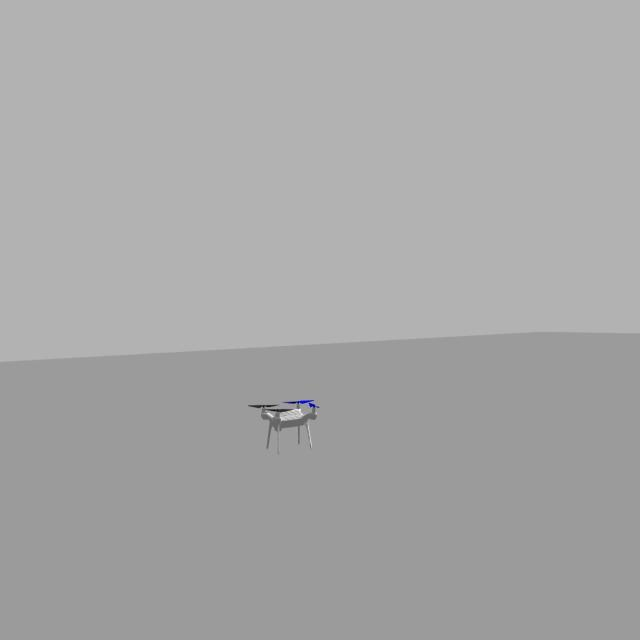Drone: (247, 392, 322, 457)
